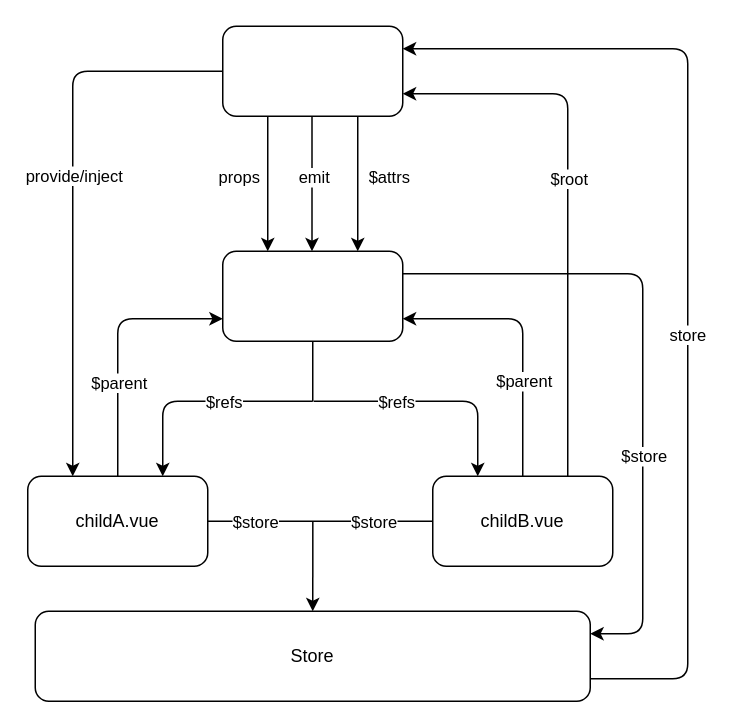
The diagram is 732 pixels wide and 728 high, and some of its shapes have lost their labels. The shapes that lost their labels are listed below. From the top down, each one's box as (x1, y1, x2, y2) in pixels, then its label:
(221, 25, 403, 116): root.vue
(221, 250, 403, 341): parent.vue
